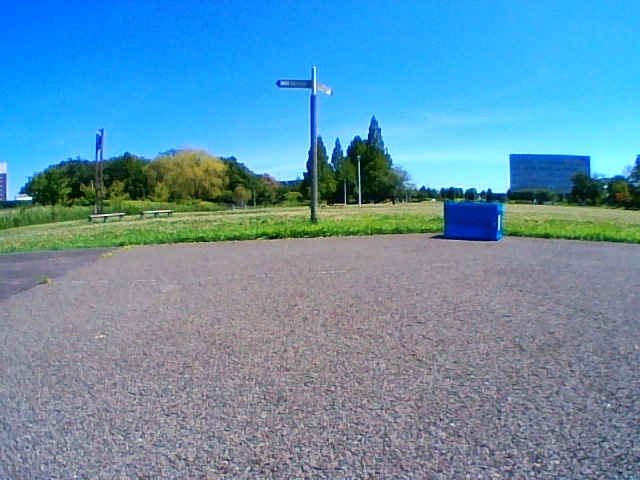blue_box: (442, 201, 502, 240)
tag: (498, 213, 501, 231)
